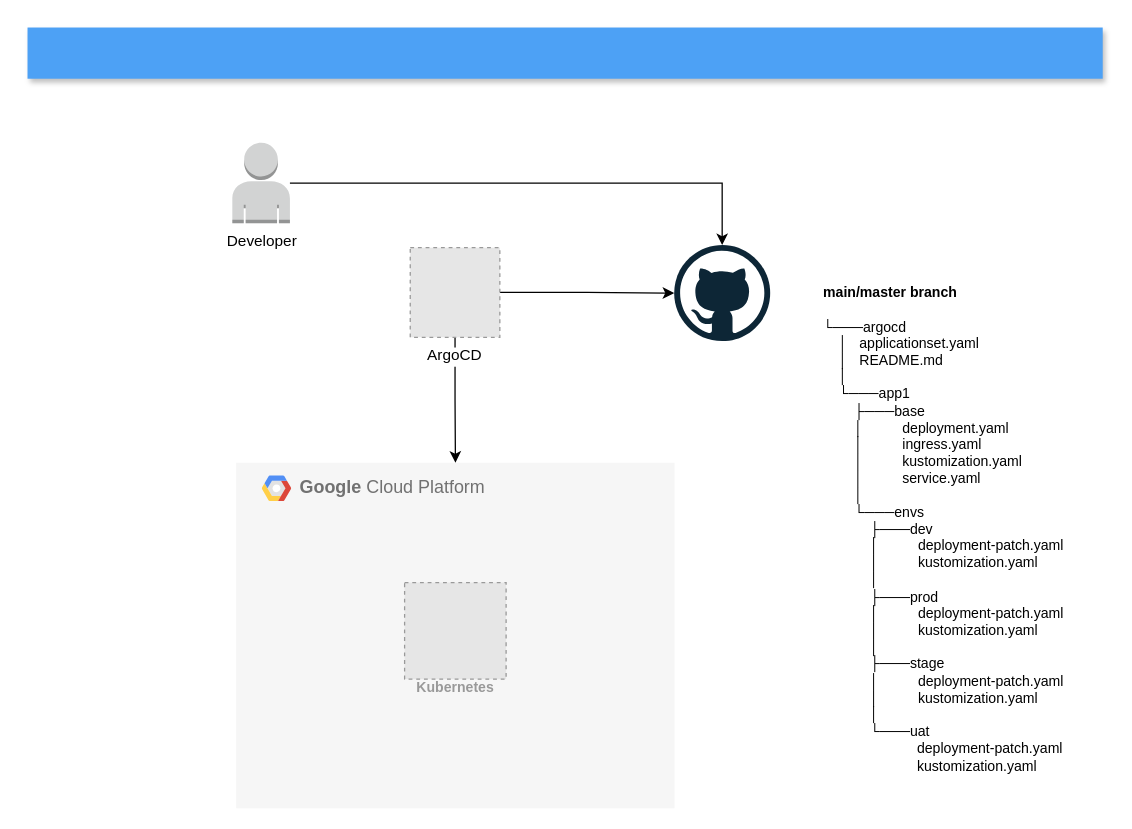
Some shapes in this 1132 by 829 pixel diagram are drawn without their labels. Grey dashed boxes stand in for pictures. Each missing label, with the centre of its shape:
"ApplicationSet Architecture" goes at point 566,54.
"GitHub Repositories" goes at point 721,292.
